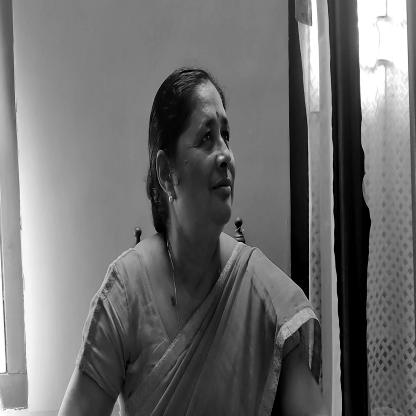Distracted: (151, 75, 247, 261)
